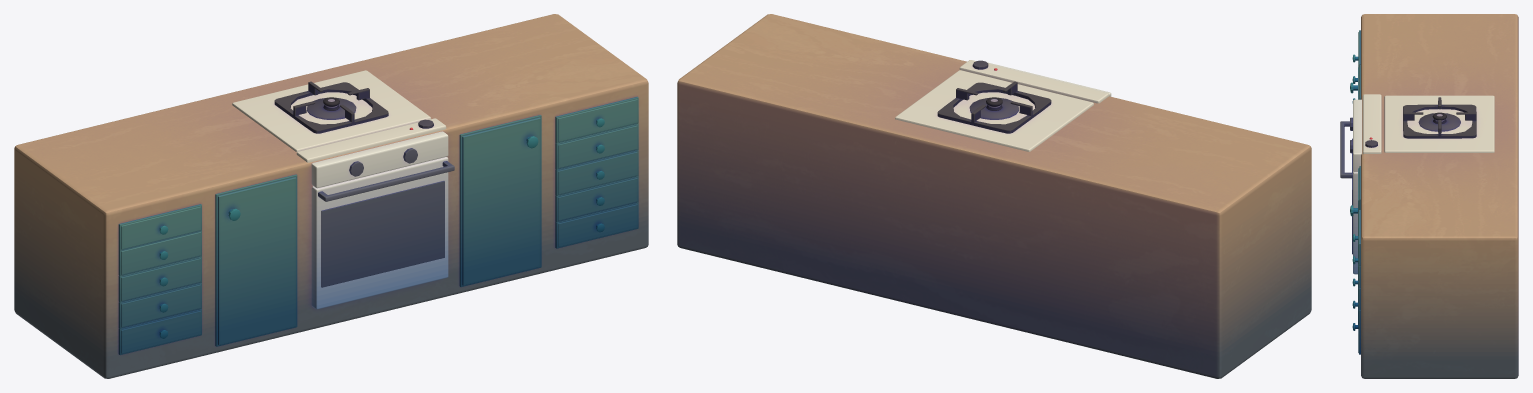
Rendered from Oven_03.fbx.
The picture shows the model from 3 angles, left to right: view 1: azimuth 30°, elevation 25°; view 2: azimuth 150°, elevation 25°; view 3: azimuth 270°, elevation 25°; orthographic projection. The views are drawn at different scales.
Visible parts, largest first — view 1: Table, Fire_Oven; view 2: Table, Fire_Oven; view 3: Table, Fire_Oven.
Part boxes in pixels (left/top/right/bottom): Table: left=14, top=14, right=648, bottom=378; Fire_Oven: left=232, top=70, right=446, bottom=162; Table: left=677, top=14, right=1311, bottom=378; Fire_Oven: left=895, top=60, right=1109, bottom=151; Table: left=1340, top=14, right=1518, bottom=378; Fire_Oven: left=1362, top=94, right=1494, bottom=154.
Bounding box in the file's own units: 337 × 109 × 113.
